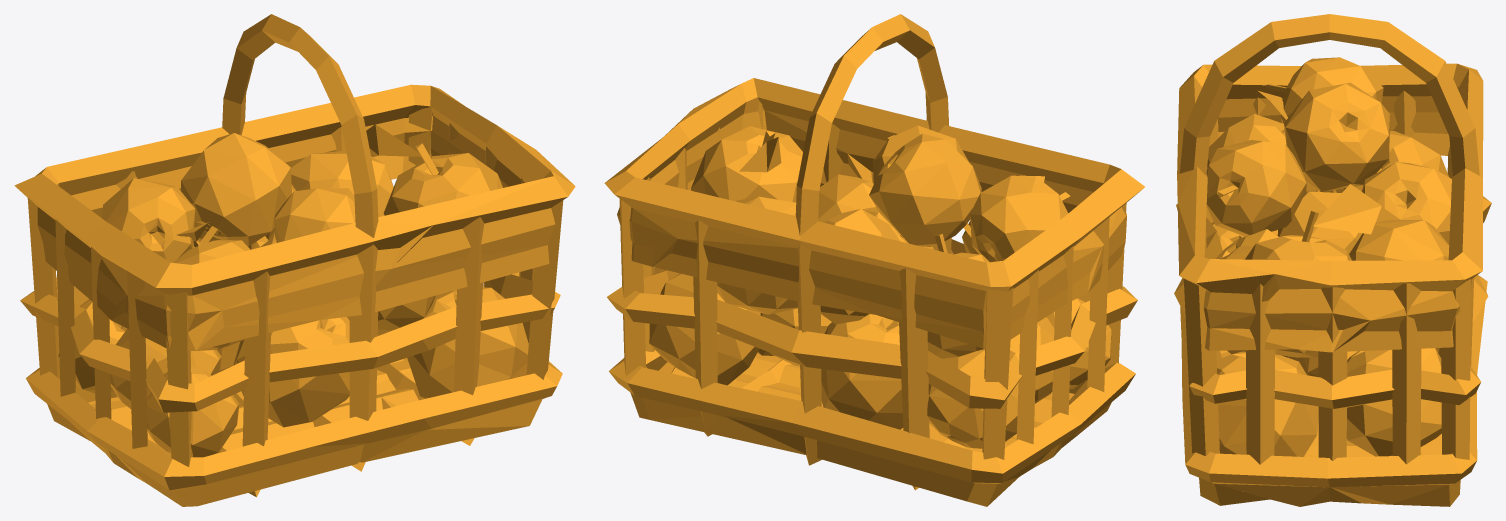
File: SM_Basket_Apples_Red_Fantasy_A.fbx
3 renders of one model, left to right at view 1: azimuth 30°, elevation 25°; view 2: azimuth 150°, elevation 25°; view 3: azimuth 270°, elevation 25°, orthographic. The views are drawn at different scales.
Parts seen in each view (by area): view 1: basket-apples-red-fantasy-a; view 2: basket-apples-red-fantasy-a; view 3: basket-apples-red-fantasy-a.
Boxes of the visible parts, x1,y1,x2,y2 form: basket-apples-red-fantasy-a: (14, 14, 575, 506); basket-apples-red-fantasy-a: (604, 14, 1144, 506); basket-apples-red-fantasy-a: (1174, 14, 1491, 506).
Size of the model in its own units: 0.5434 by 0.4831 by 0.3412.
